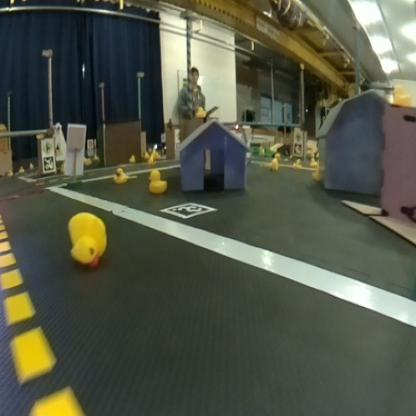duckie: (53, 193, 118, 272), (144, 159, 169, 204), (112, 152, 132, 190)
